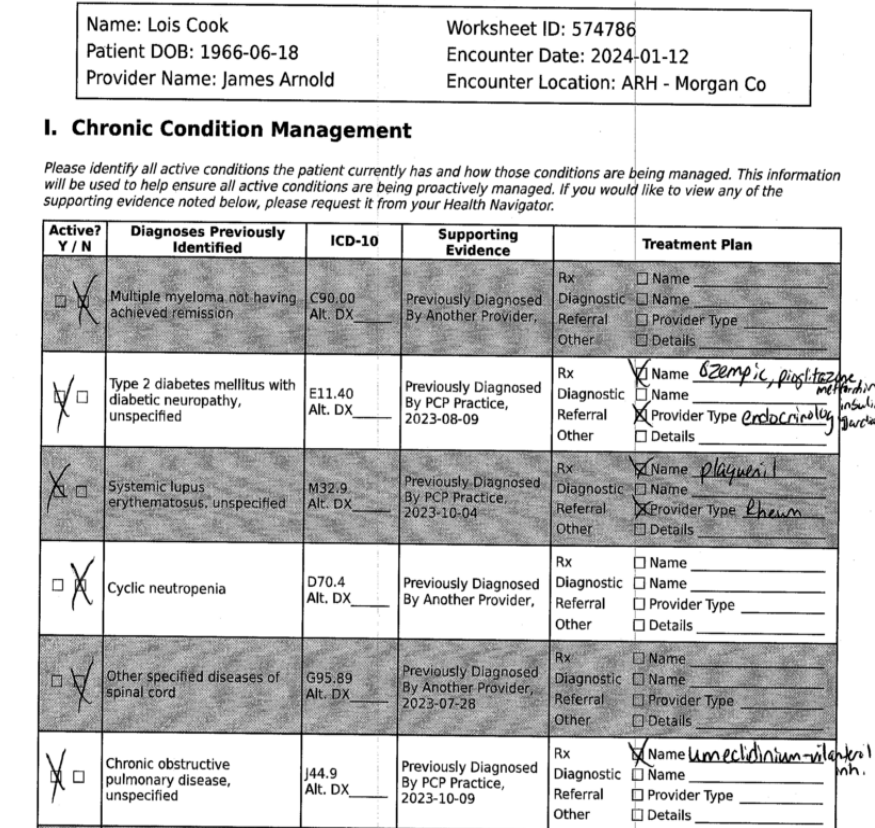checked: (67, 551, 99, 619), (68, 273, 101, 336), (42, 744, 70, 809), (68, 654, 96, 718), (50, 371, 76, 433), (46, 461, 69, 515), (621, 453, 652, 478), (625, 358, 652, 386), (628, 496, 651, 520), (627, 738, 648, 764), (632, 402, 652, 426)
